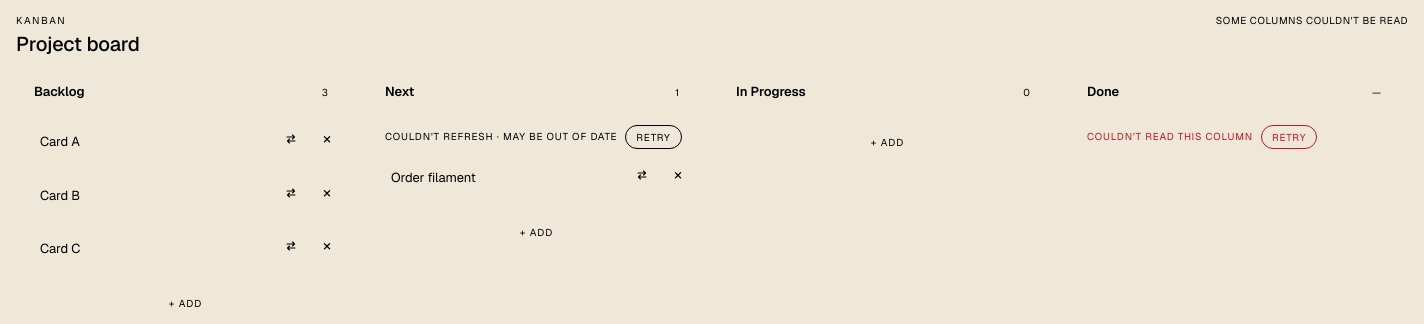
Test case: R4C-6: something that never answers can't stop the board reading › a read HA never answers settles as failed after 30 s: the column says so, and Retry and the retries work
expect the text "Couldn't refresh · may be out of date" is shown: met, box x1=385 y1=130 x2=617 y2=143
Step 1. Click the button "Retry" next to "Couldn't refresh · may be out of date" → (653, 137), box x1=625 y1=125 x2=682 y2=149
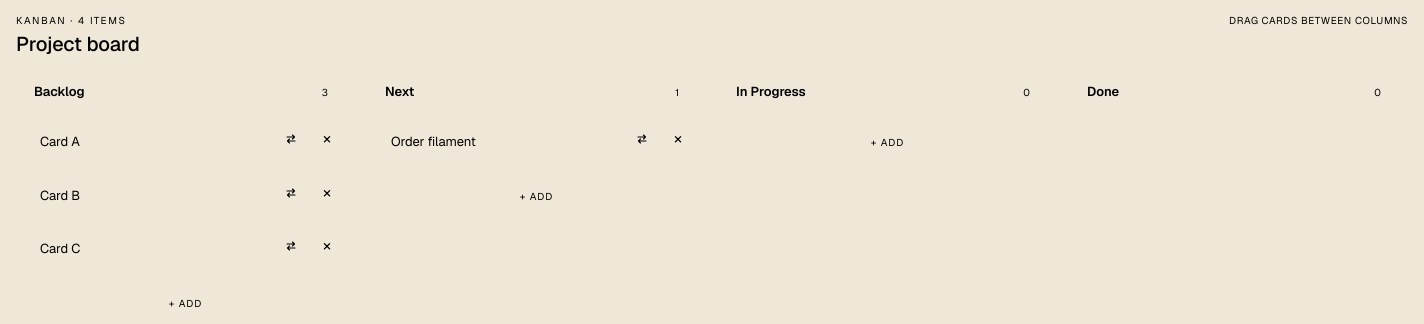
expect the text "couldn't" is gone: met
